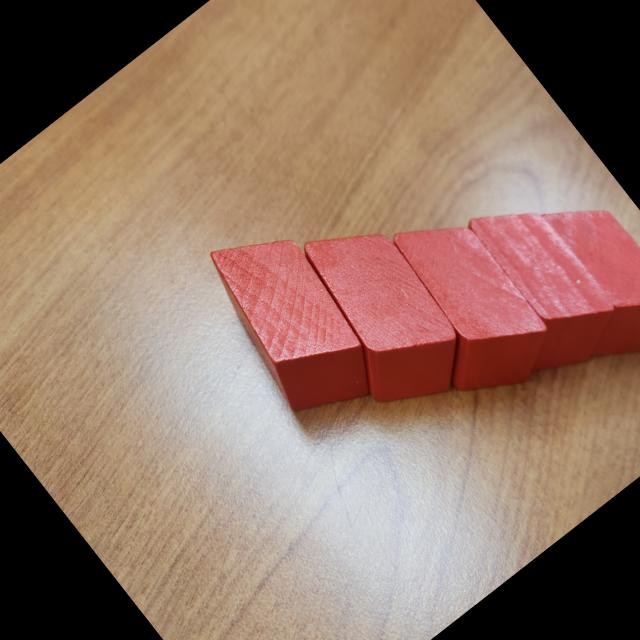red: (272, 200, 487, 432), (184, 206, 398, 438), (358, 193, 568, 420), (434, 182, 634, 394), (502, 175, 640, 382)
